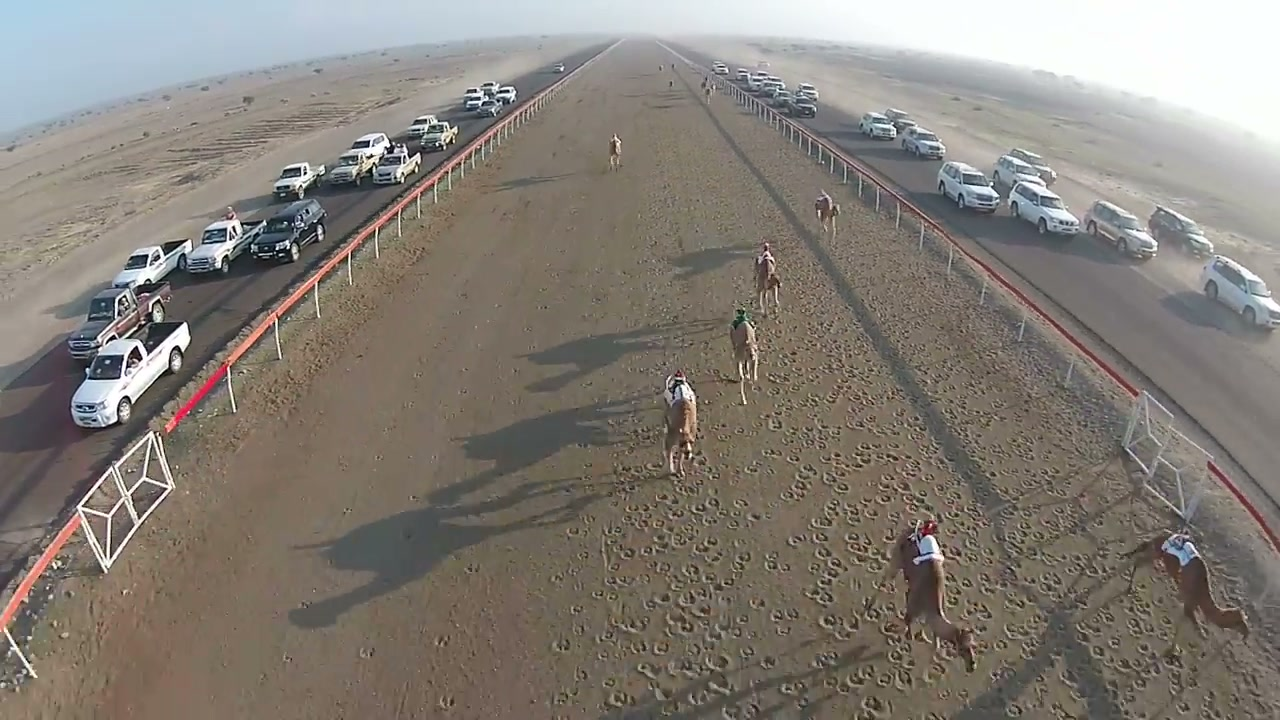animal_footprint: (842, 237, 1153, 693), (757, 311, 910, 702), (580, 460, 793, 717), (950, 453, 1070, 684)
